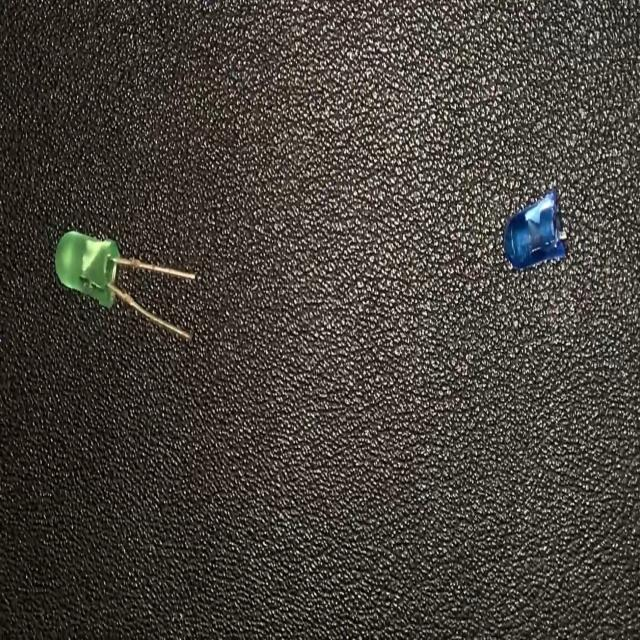LED: (54, 225, 197, 344)
missing-leg: (502, 185, 569, 269)
